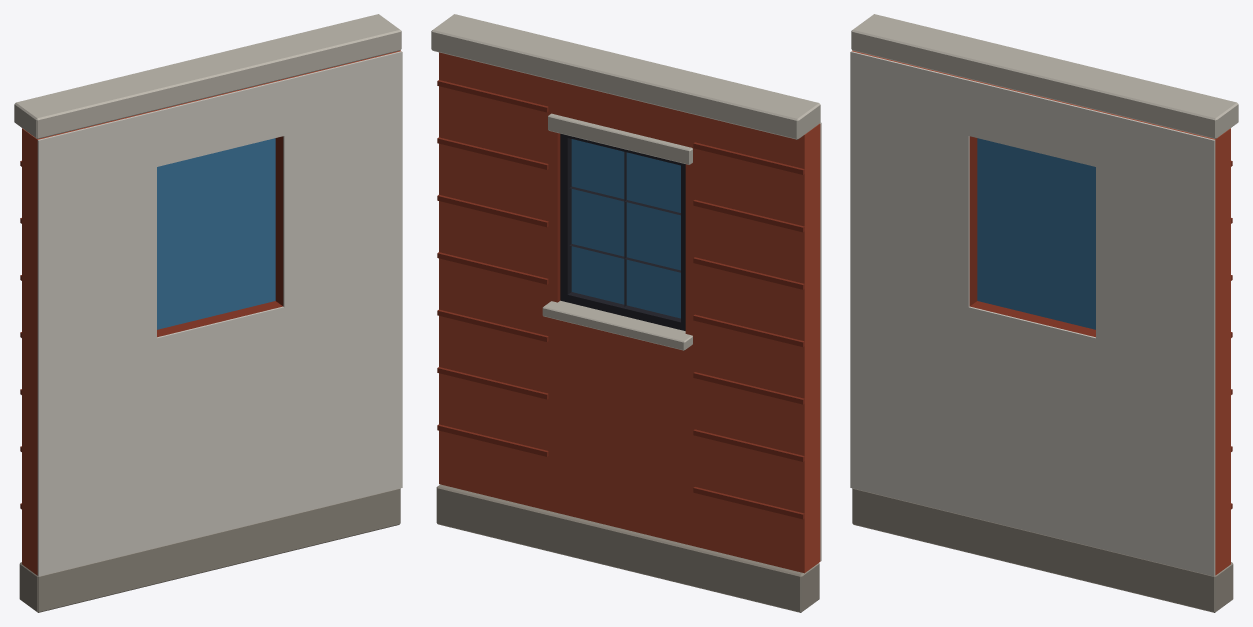
File: hall_wall.glb
3 views of the same model, side by side, from view 1: azimuth 30°, elevation 25°; view 2: azimuth 150°, elevation 25°; view 3: azimuth 330°, elevation 25° (orthographic).
Parts seen in each view (by area): view 1: wall; view 2: wall; view 3: wall.
Boxes of the visible parts, left/top/right/bottom form: wall: left=14, top=14, right=402, bottom=612; wall: left=431, top=14, right=821, bottom=612; wall: left=850, top=14, right=1238, bottom=612.
Size of the model in its own units: 4.02 by 5.2 by 0.48.
